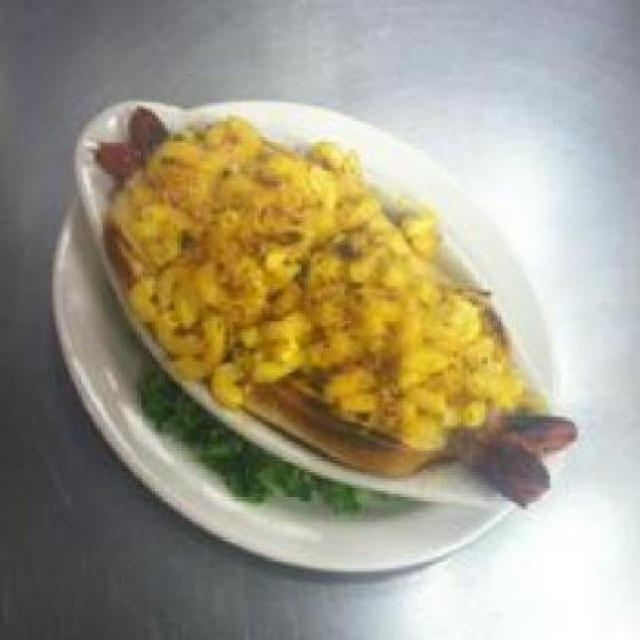hot dog: (444, 385, 587, 501), (78, 96, 174, 169)
macaroni and cheese: (112, 115, 513, 454)
